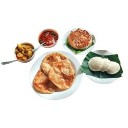poori: (42, 51, 69, 76), (33, 69, 59, 93), (51, 62, 74, 89)
